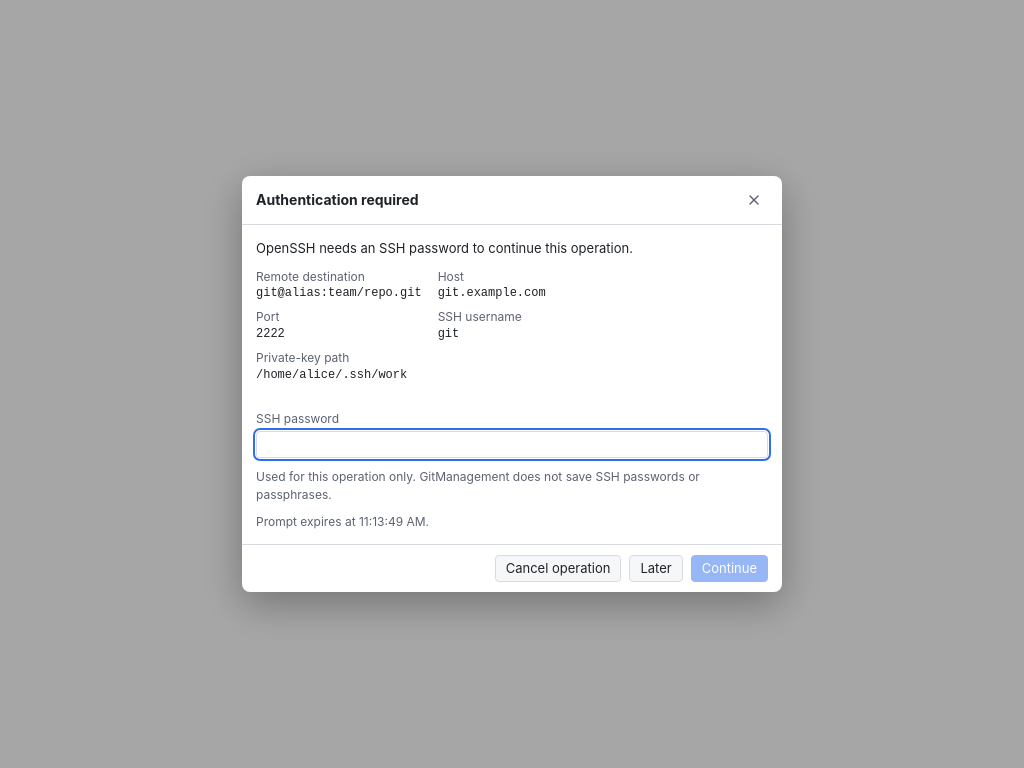
clears an SSH secret on a failed response without displaying backend text
In the password field labelled "SSH password": (512,445) x1=256 y1=431 x2=768 y2=458, type "PRIVATE"
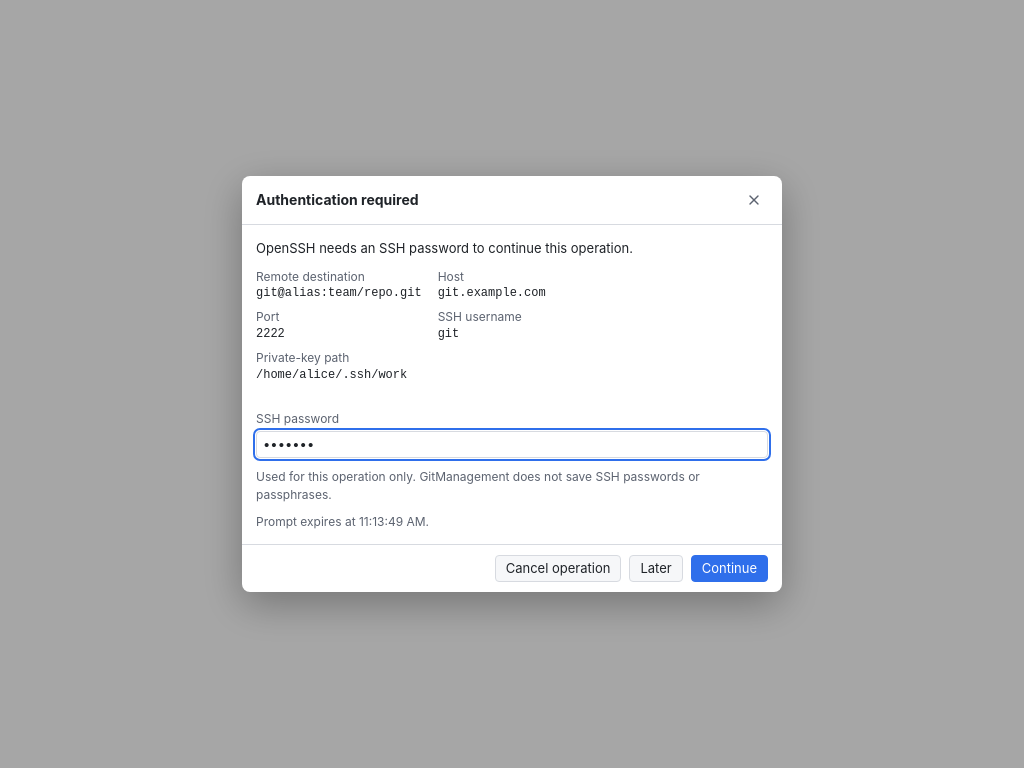
Click the button "Continue": (729,569) x1=691 y1=555 x2=768 y2=582
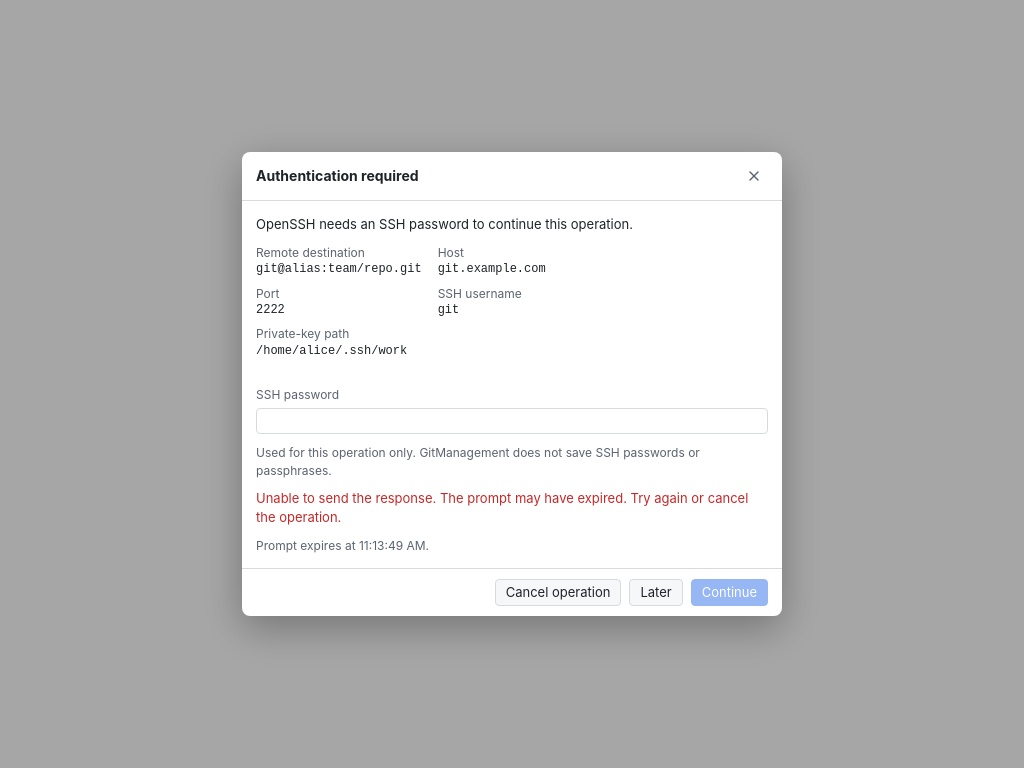
expect the message shows "Unable to send the response": met, box x1=256 y1=490 x2=748 y2=525
expect the password field labelled "SSH password" is empty: met, box x1=256 y1=408 x2=768 y2=434
